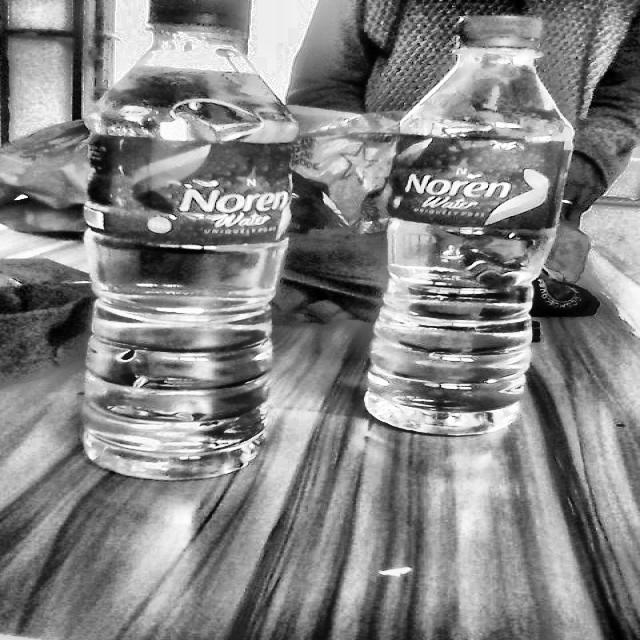waterbottle: (68, 2, 322, 496), (350, 3, 607, 447)
